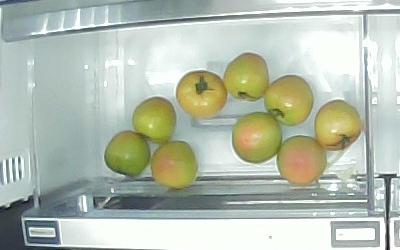tomato: (232, 111, 283, 163), (314, 100, 363, 152), (265, 75, 314, 126), (277, 135, 328, 184), (177, 70, 227, 118), (224, 52, 269, 102), (104, 130, 151, 177), (152, 142, 199, 189), (133, 97, 177, 143)
